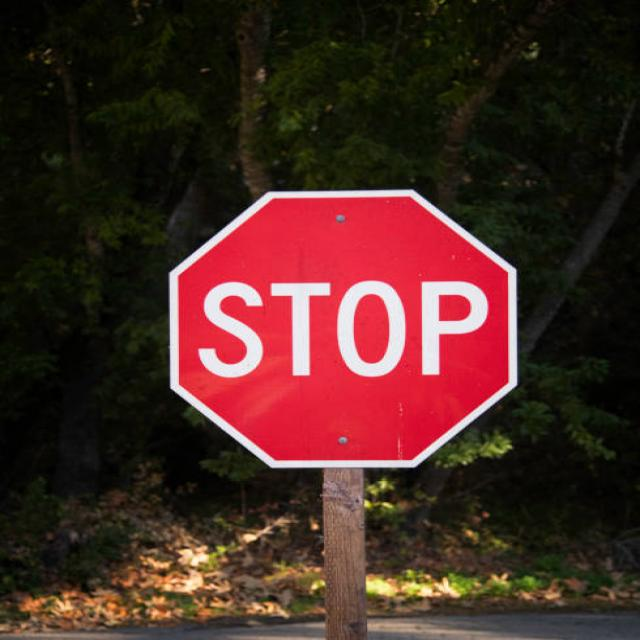stop: (161, 182, 522, 474)
